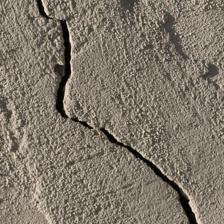Crack: (105, 129, 198, 222), (37, 4, 95, 130)
